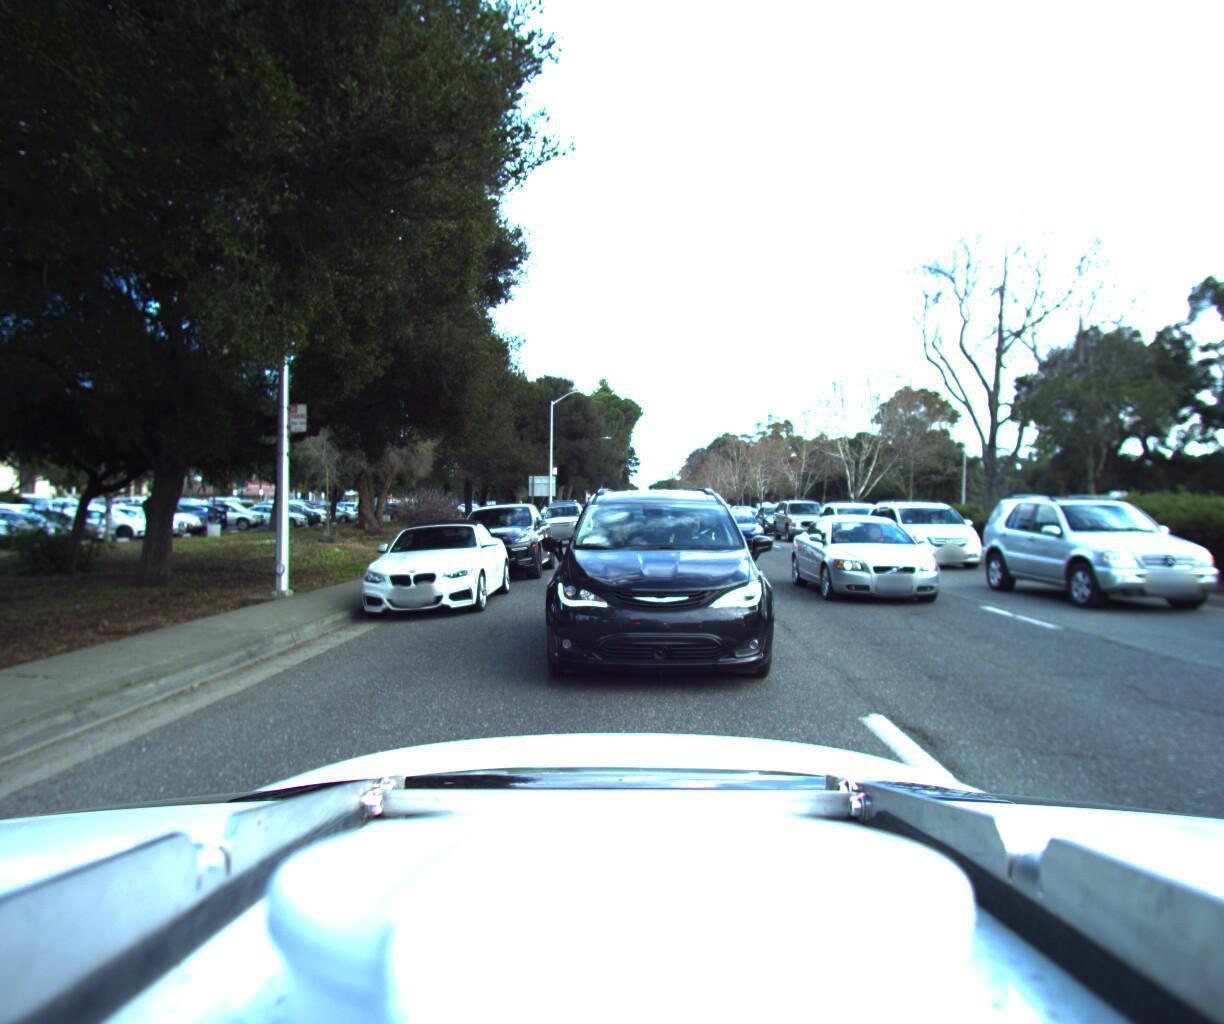car: (534, 469, 784, 699), (968, 489, 1224, 609), (788, 507, 971, 609), (342, 511, 513, 618), (442, 495, 553, 582), (854, 494, 986, 566), (808, 495, 896, 551), (769, 493, 832, 540), (533, 493, 589, 544), (701, 504, 766, 548)
other_vehicle: (1051, 482, 1179, 556)
